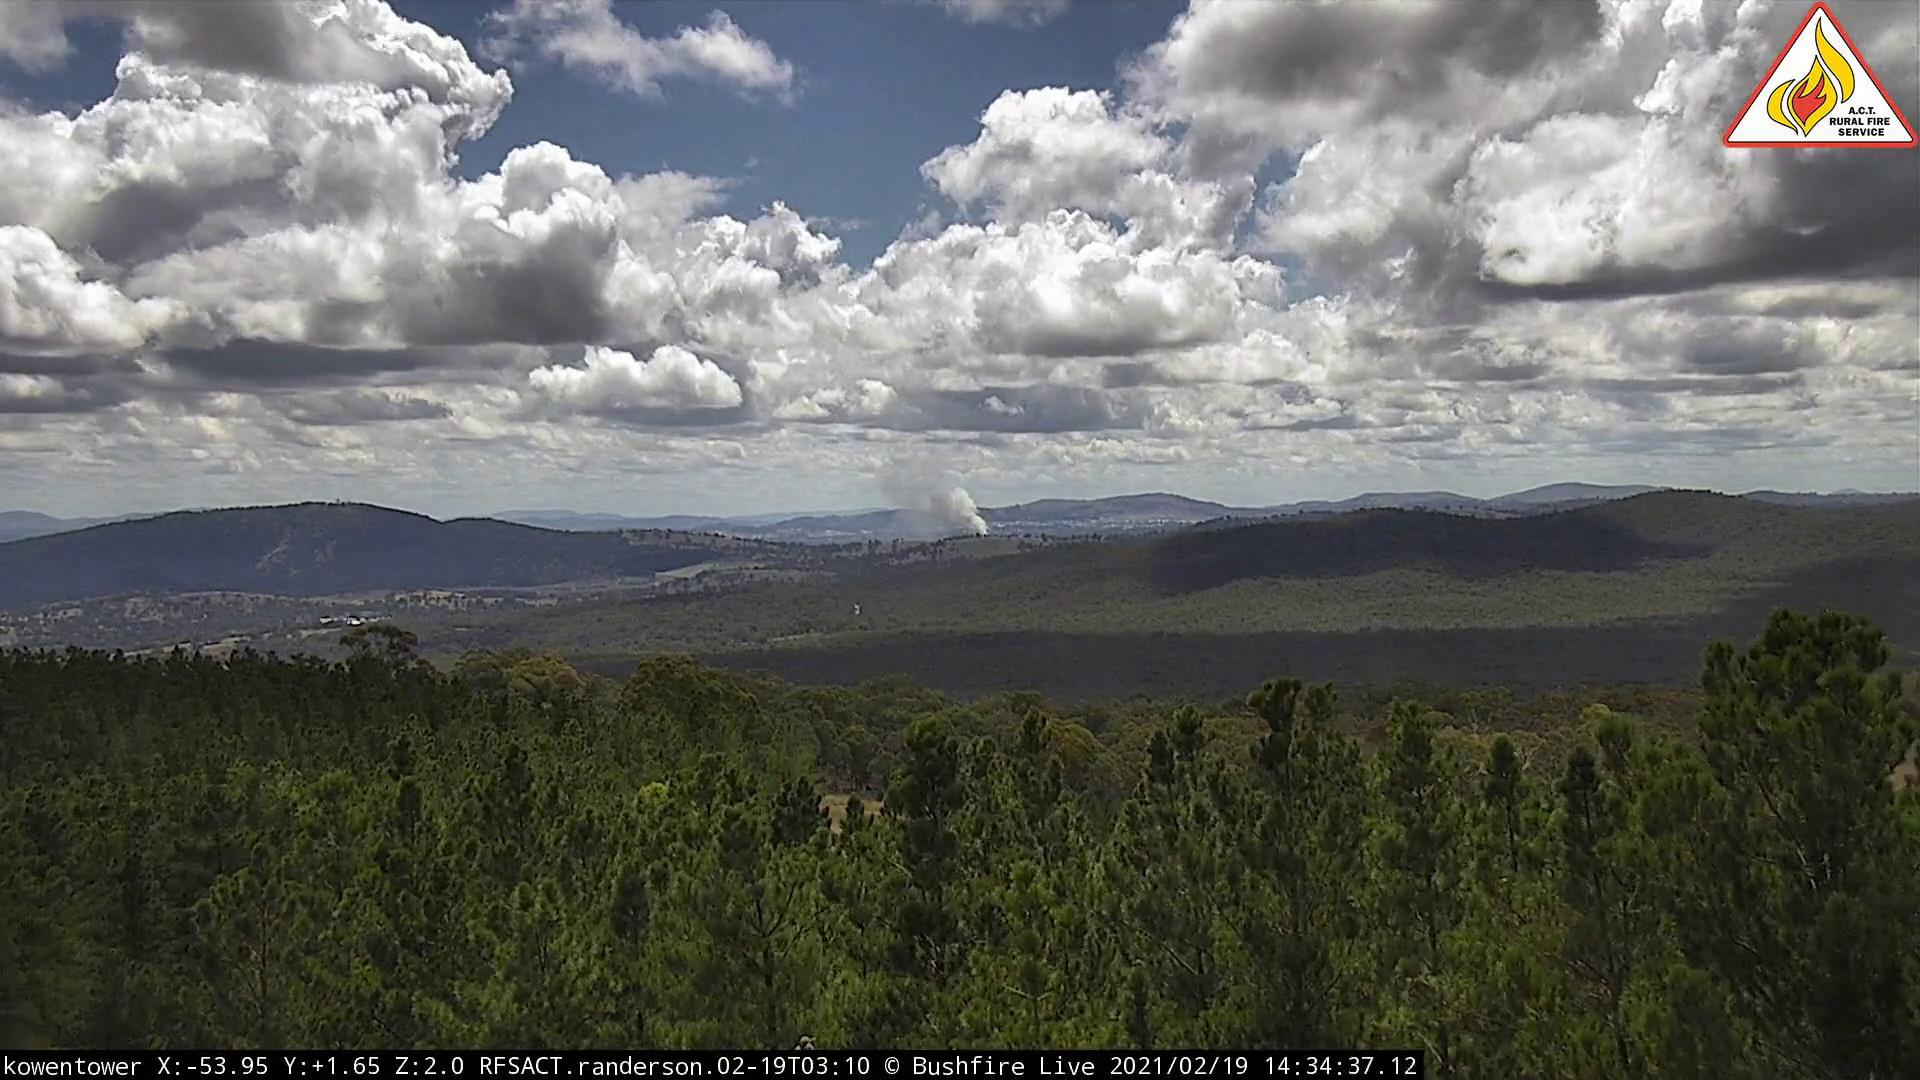Smoke: (872, 476, 992, 550)
